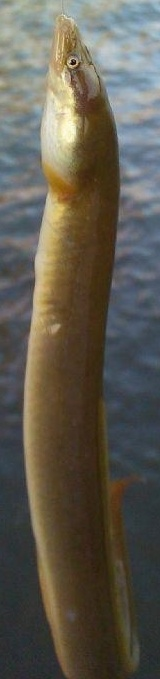Anguilla anguilla: (20, 20, 140, 679)
